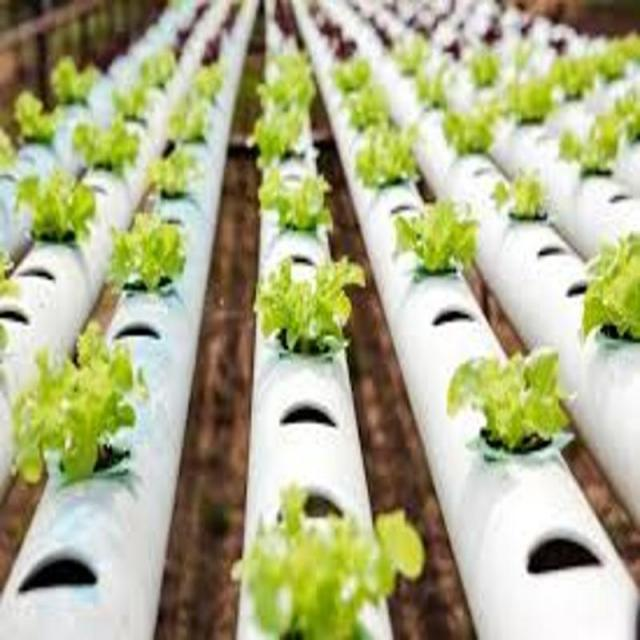Lettuce: (237, 485, 418, 640), (22, 336, 145, 476), (447, 352, 575, 455), (263, 258, 360, 348), (383, 198, 485, 277), (578, 228, 640, 346), (108, 210, 194, 295), (12, 172, 108, 245), (262, 170, 340, 232), (552, 115, 630, 177), (67, 118, 145, 177), (147, 150, 218, 210), (496, 73, 562, 132), (242, 108, 310, 165), (496, 167, 562, 225), (435, 105, 503, 155), (7, 92, 65, 142), (48, 58, 102, 104), (344, 86, 394, 132), (112, 82, 153, 125), (172, 100, 206, 140)
